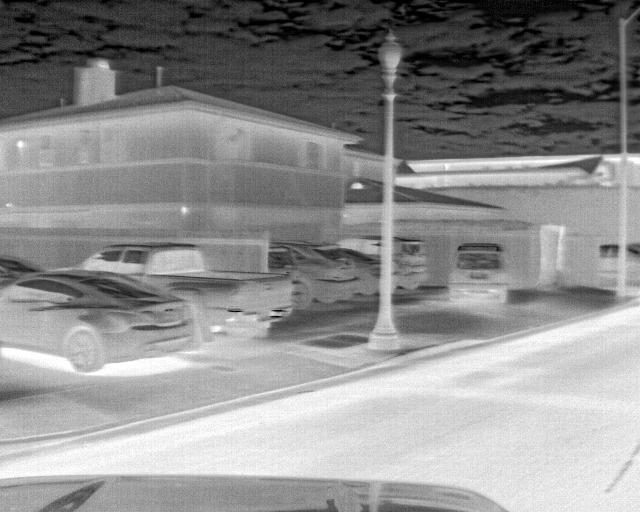car: (79, 242, 299, 342), (0, 269, 196, 377), (284, 239, 356, 304), (447, 243, 509, 310), (315, 246, 379, 295), (388, 234, 423, 296), (598, 243, 618, 288), (624, 244, 639, 290)
